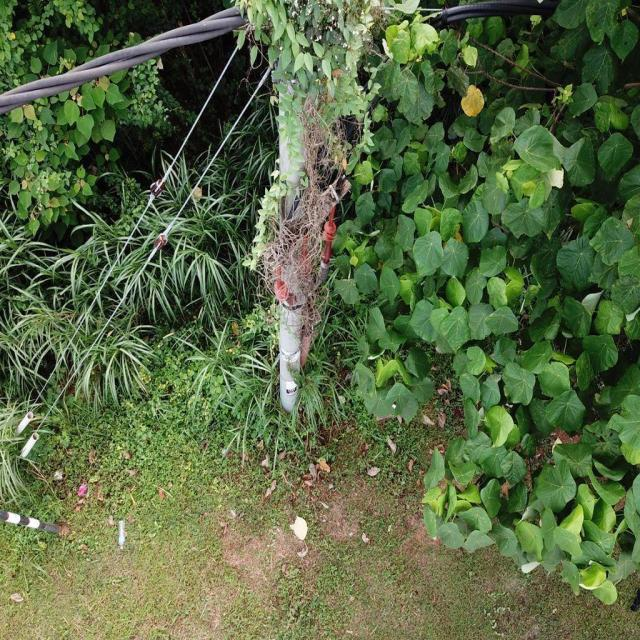critical vegetation: (239, 14, 359, 391)
